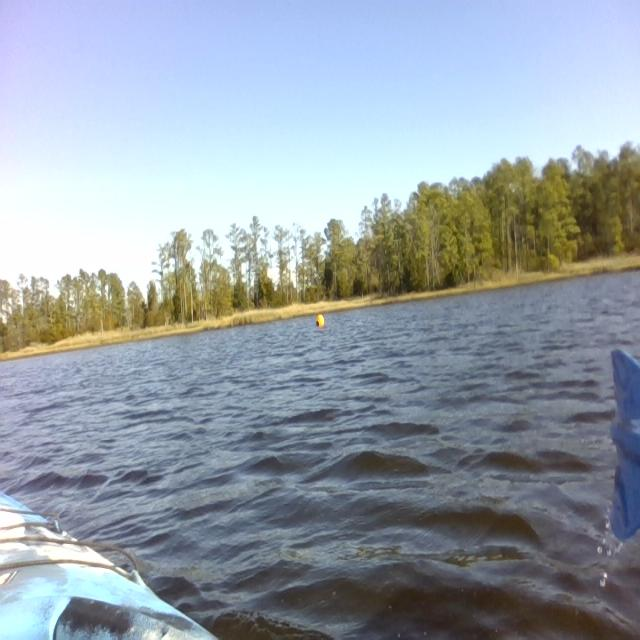Buoy: (310, 310, 332, 333)
